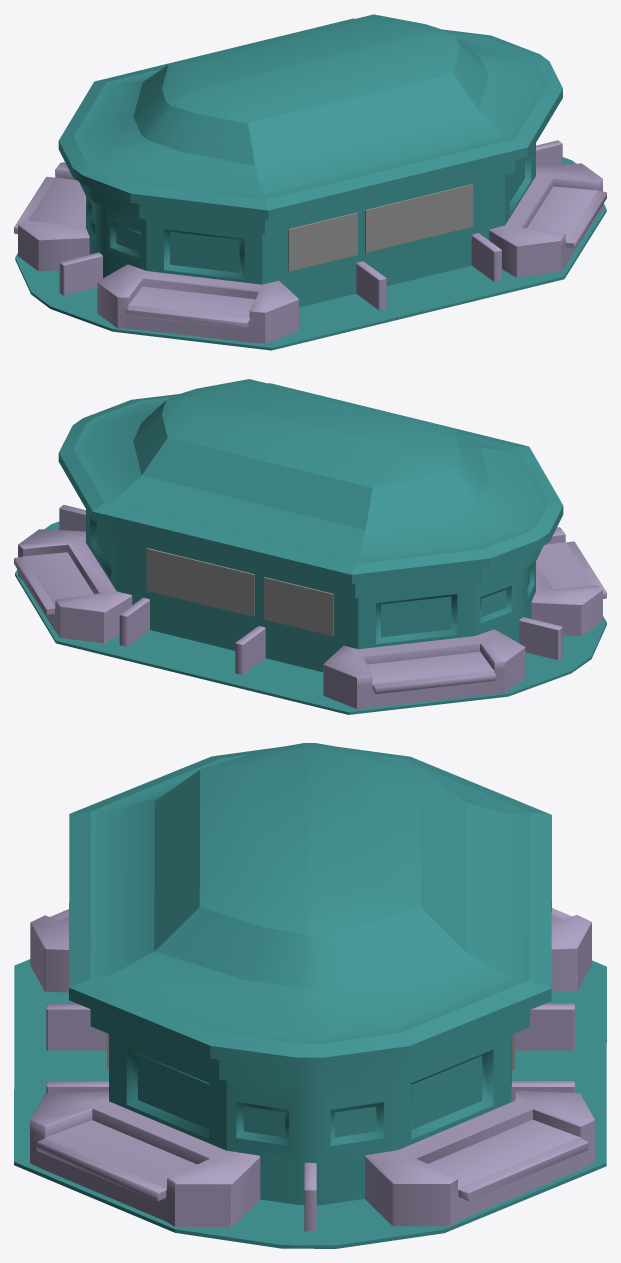
Rendered from Ilot_Cour_01_low.FBX.
3 views of the same model, one above another, from view 1: azimuth 30°, elevation 25°; view 2: azimuth 150°, elevation 25°; view 3: azimuth 270°, elevation 25° (orthographic). The views are drawn at different scales.
Parts seen in each view (by area): view 1: Base_low, Banc004_low, Banc001_low, Banc003_low, PlaqueMur002_low, PlaqueMur004_low, MuretFront_low, MuretRight001_low, MuretRight002_low, MuretBack_low; view 2: Base_low, Banc003_low, Banc002_low, Banc004_low, PlaqueMur001_low, PlaqueMur003_low, MuretFront_low, MuretLeft002_low, MuretLeft001_low, MuretBack_low; view 3: Base_low, Banc002_low, Banc001_low, Banc003_low, Banc004_low, MuretRight001_low, MuretLeft001_low, MuretBack_low, MuretRight002_low, MuretLeft002_low.
Boxes of the visible parts, x1,y1,x2,y2 form: Base_low: (15, 14, 606, 350); Banc004_low: (97, 264, 298, 343); Banc001_low: (489, 163, 606, 277); Banc003_low: (14, 162, 89, 271); PlaqueMur002_low: (365, 184, 473, 252); PlaqueMur004_low: (288, 212, 357, 271); MuretFront_low: (59, 252, 102, 295); MuretRight001_low: (356, 261, 386, 310); MuretRight002_low: (471, 233, 501, 281); MuretBack_low: (536, 140, 562, 165); Base_low: (15, 379, 606, 714); Banc003_low: (323, 629, 525, 708); Banc002_low: (14, 529, 132, 643); Banc004_low: (531, 527, 606, 635); PlaqueMur001_low: (146, 548, 254, 616); PlaqueMur003_low: (264, 577, 333, 636); MuretFront_low: (519, 617, 562, 660); MuretLeft002_low: (119, 597, 149, 646); MuretLeft001_low: (235, 626, 265, 674); MuretBack_low: (59, 505, 85, 531); Base_low: (14, 743, 606, 1248); Banc002_low: (365, 1090, 594, 1226); Banc001_low: (30, 1091, 260, 1226); Banc003_low: (551, 908, 591, 991); Banc004_low: (30, 909, 68, 992); MuretRight001_low: (46, 1003, 106, 1050); MuretLeft001_low: (514, 1003, 574, 1050); MuretBack_low: (304, 1162, 316, 1231); MuretRight002_low: (46, 1081, 108, 1093); MuretLeft002_low: (512, 1081, 574, 1101).
Size of the model in its own units: 678 by 209 by 469.
